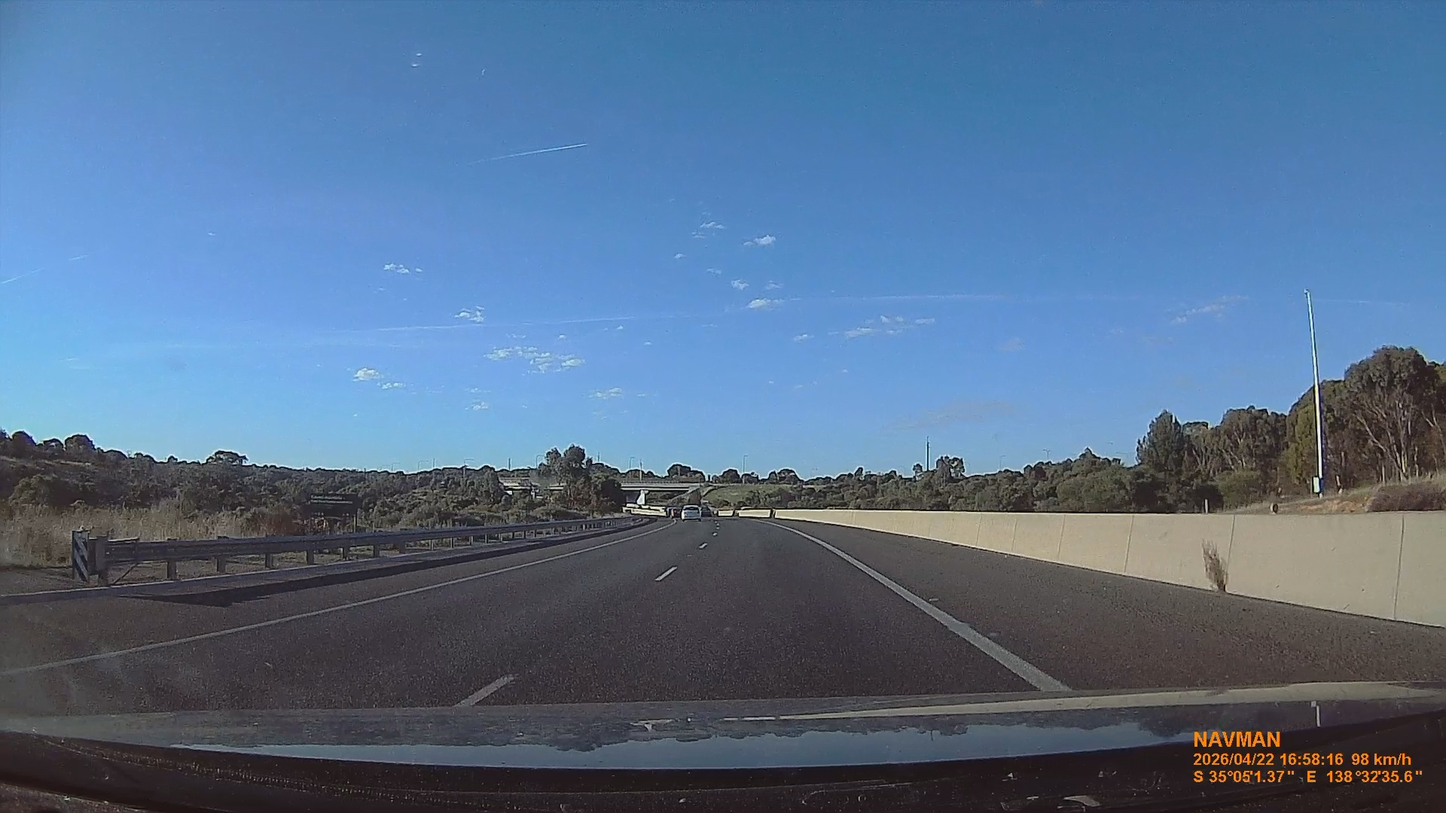road barriers: (786, 506, 1444, 623), (72, 517, 615, 587)
